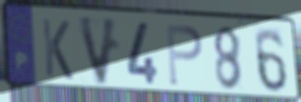4: (125, 20, 163, 88)
6: (253, 26, 290, 95)
8: (212, 24, 245, 93)
K: (40, 17, 75, 83)
P: (164, 22, 205, 88)
V: (75, 13, 121, 88)
